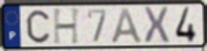4: (174, 6, 198, 45)
7: (86, 8, 109, 45)
A: (110, 7, 145, 44)
C: (25, 9, 51, 45)
H: (51, 7, 83, 46)
X: (142, 5, 171, 45)
